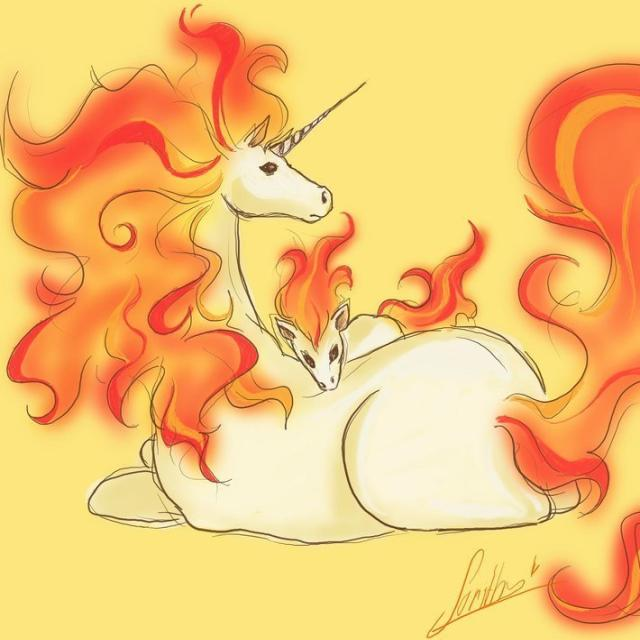Rapidash: (124, 76, 570, 538)
